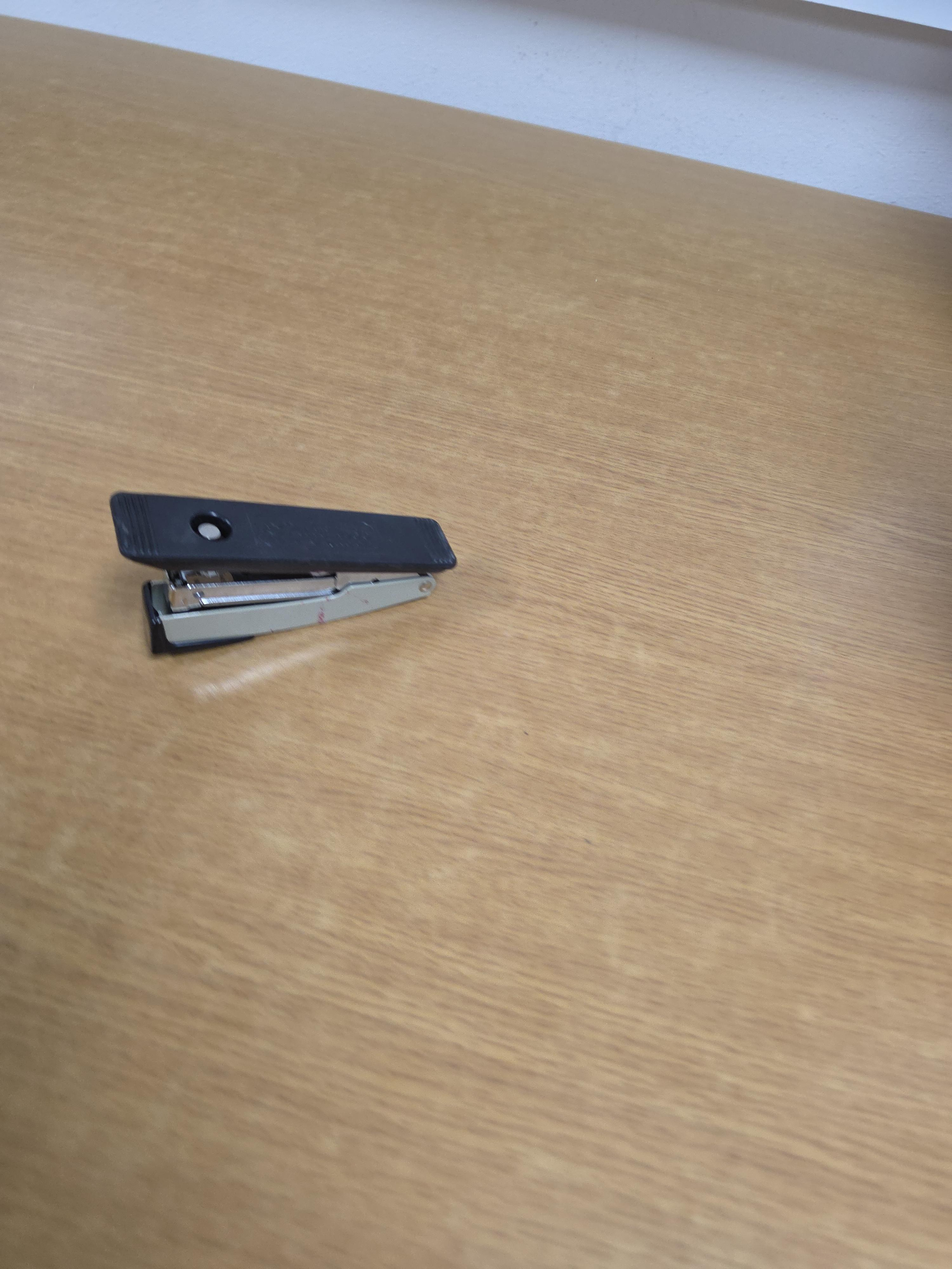stapler: (109, 491, 458, 655)
